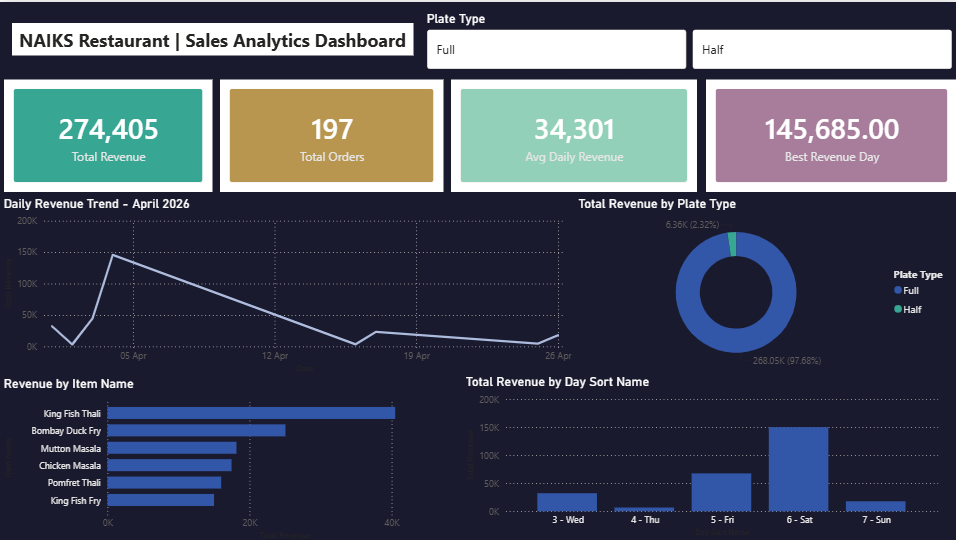

What the dashboard file says about the page in this screenshot:
{"tool":"powerbi","page":{"name":"Page 1","canvas":[1280,720],"ordinal":0},"visuals":[{"type":"cardVisual","fields":{"Data":["_Measures.Total Revenue"]},"box":[0,98.3,288.3,160],"z":0},{"type":"cardVisual","fields":{"Data":["_Measures.Best Revenue Day"]},"box":[935,98.3,345,160],"z":1000},{"type":"cardVisual","fields":{"Data":["_Measures.Avg Daily Revenue"]},"box":[596.7,98.3,338.3,160],"z":2000},{"type":"cardVisual","fields":{"Data":["_Measures.Total Orders"]},"box":[288.3,98.3,308.3,160],"z":3000},{"type":"lineChart","title":"Daily Revenue Trend - April 2026","fields":{"Y":["_Measures.Total Revenue"],"Category":["Date Table.Date.Variation.Date Hierarchy.Day"]},"box":[0,258.3,766.7,240],"z":4000},{"type":"clusteredBarChart","title":"Revenue by Item Name","fields":{"Category":["restaurant_sales.Item Name"],"Y":["_Measures.Total Revenue"]},"box":[0,497.1,639.6,223.5],"z":5000},{"type":"donutChart","fields":{"Category":["restaurant_sales.Plate Type"],"Y":["_Measures.Total Revenue"]},"box":[766.7,258.3,513.3,238.3],"z":6000},{"type":"clusteredColumnChart","fields":{"Y":["_Measures.Total Revenue"],"Category":["Date Table.Day Sort Name"]},"box":[615,496.7,640,221.7],"z":7000},{"type":"textbox","box":[16.7,28.3,535,43.3],"z":8000},{"type":"advancedSlicerVisual","fields":{"Values":["restaurant_sales.Plate Type"]},"box":[563.3,11.7,710,83.3],"z":9000}]}

Visuals, with their boxes in screenshot pixels (x1, y1, x2, y2), scaled from the page's 1280x720 canvas onto the 956x540 screenshot:
cardVisual - _Measures.Total Revenue: (0,74,215,194)
cardVisual - _Measures.Best Revenue Day: (698,74,955,194)
cardVisual - _Measures.Avg Daily Revenue: (446,74,698,194)
cardVisual - _Measures.Total Orders: (215,74,446,194)
"Daily Revenue Trend - April 2026" lineChart: (0,194,573,374)
"Revenue by Item Name" clusteredBarChart: (0,373,478,539)
donutChart - restaurant_sales.Plate Type x _Measures.Total Revenue: (573,194,955,372)
clusteredColumnChart - _Measures.Total Revenue x Date Table.Day Sort Name: (459,373,937,539)
textbox: (12,21,412,54)
advancedSlicerVisual - restaurant_sales.Plate Type: (421,9,951,71)
